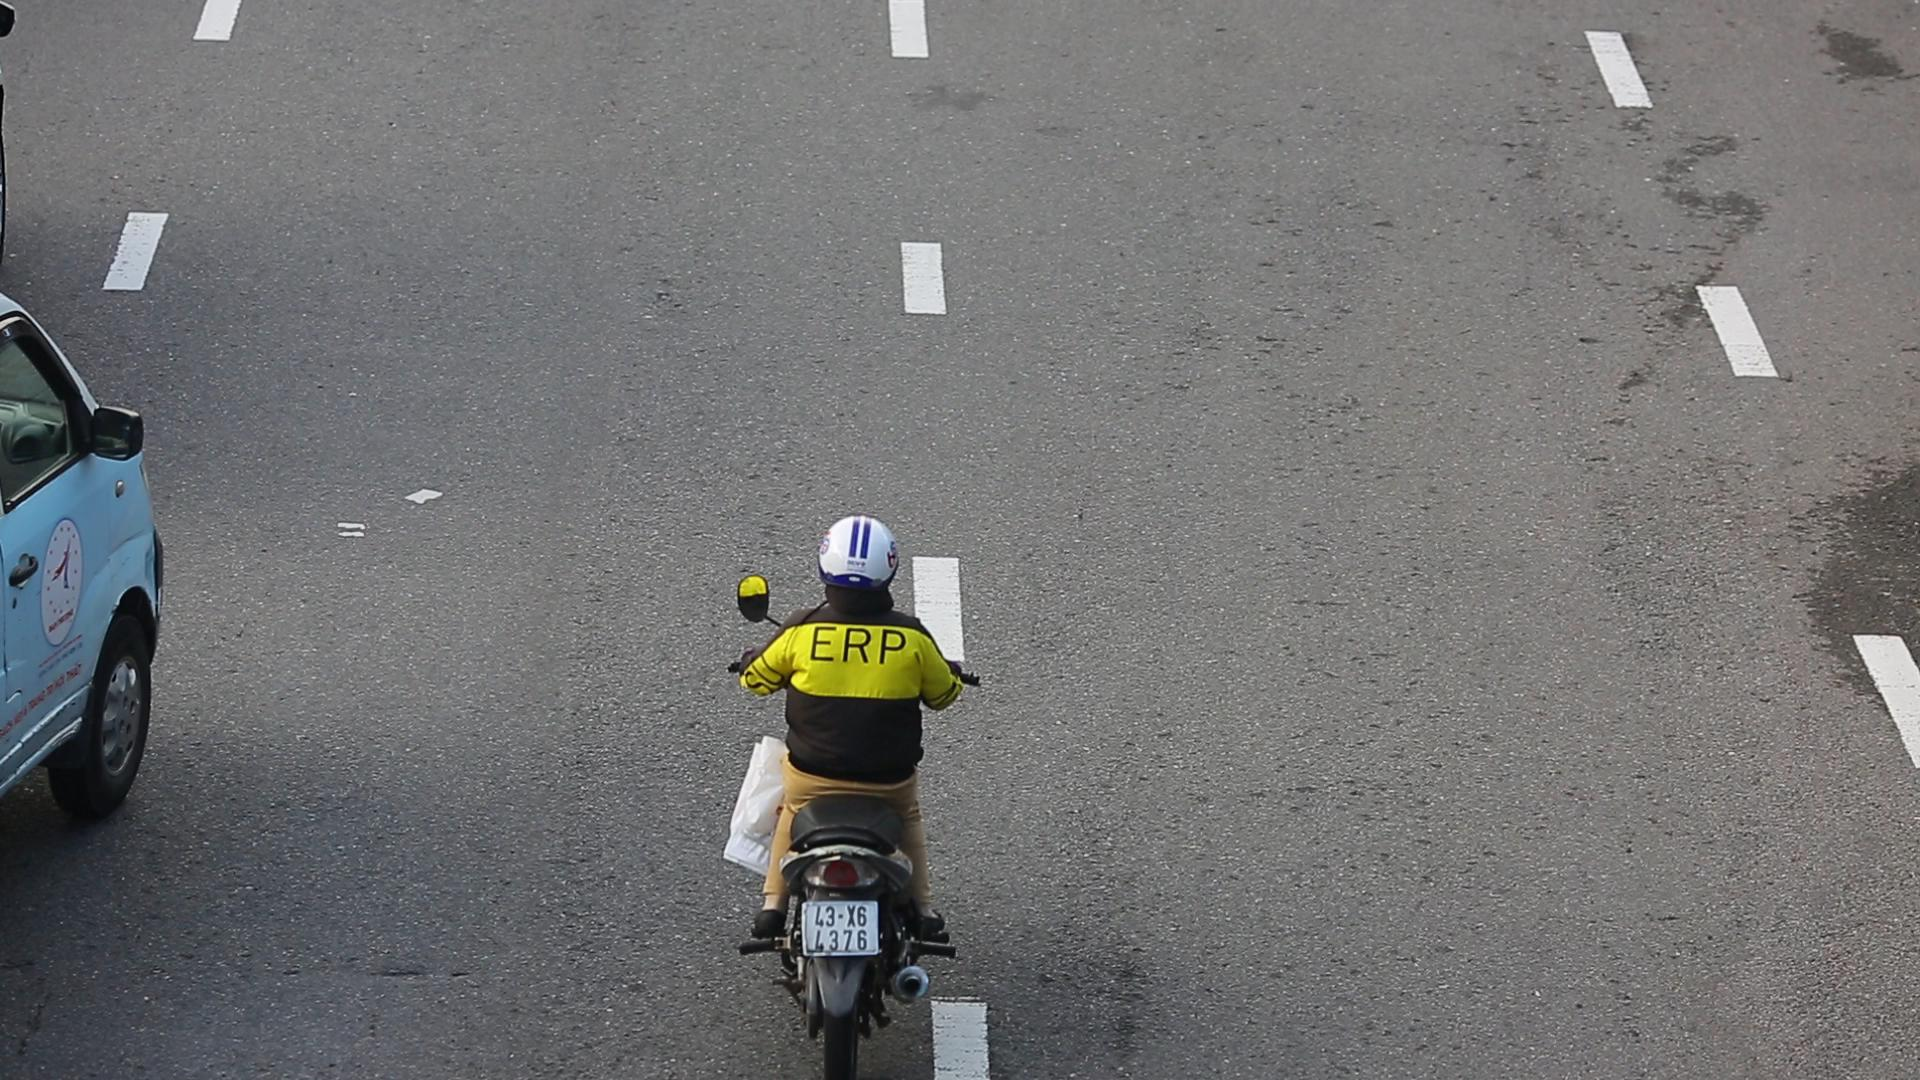motobike: (723, 510, 986, 1080)
